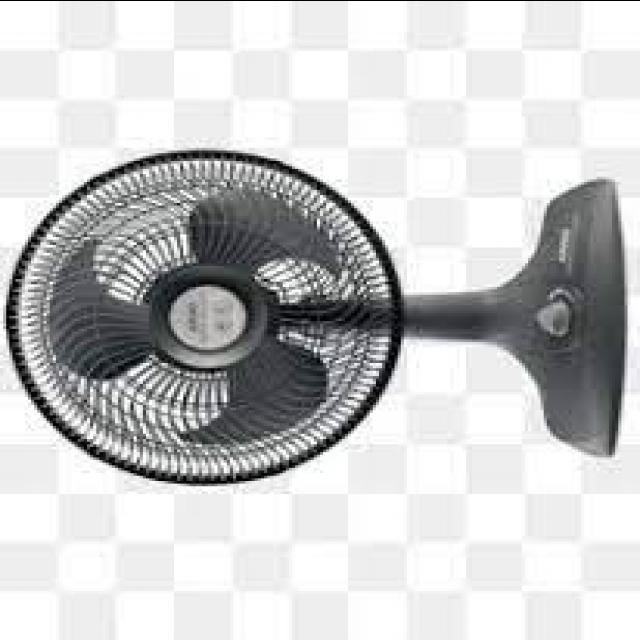fan: (8, 148, 620, 486)
